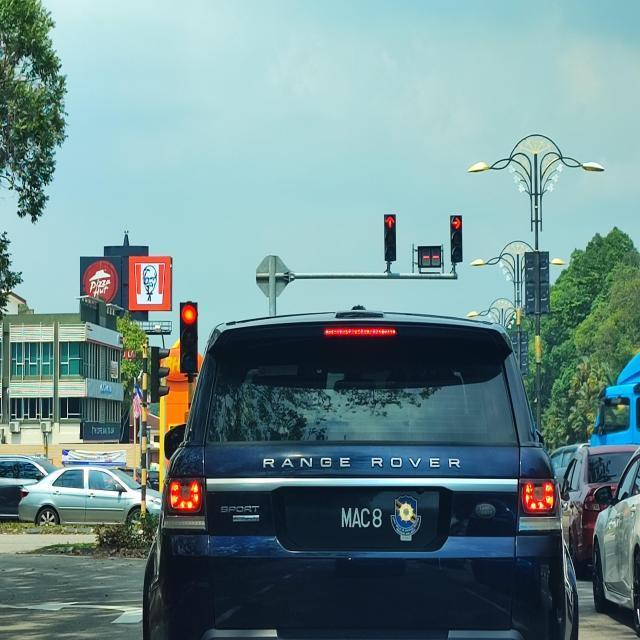red_light: (180, 302, 198, 373), (384, 214, 396, 262), (450, 216, 462, 262)
